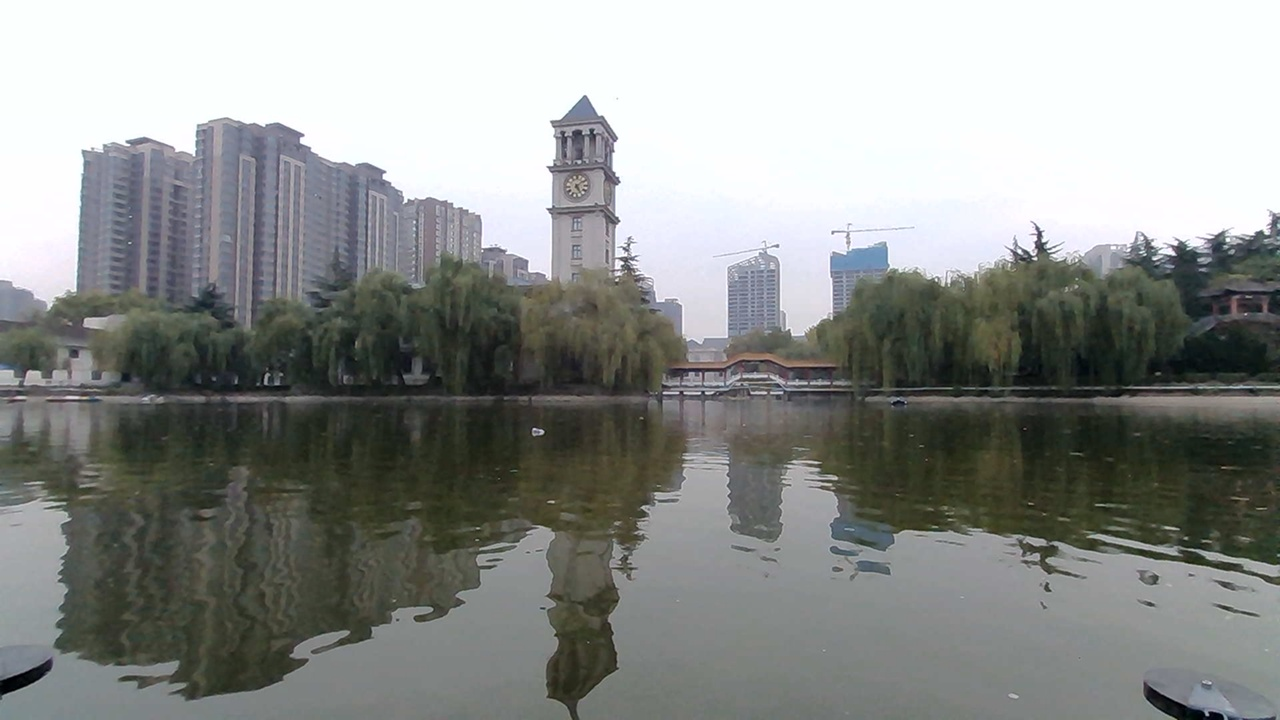bottle: (525, 417, 565, 445)
